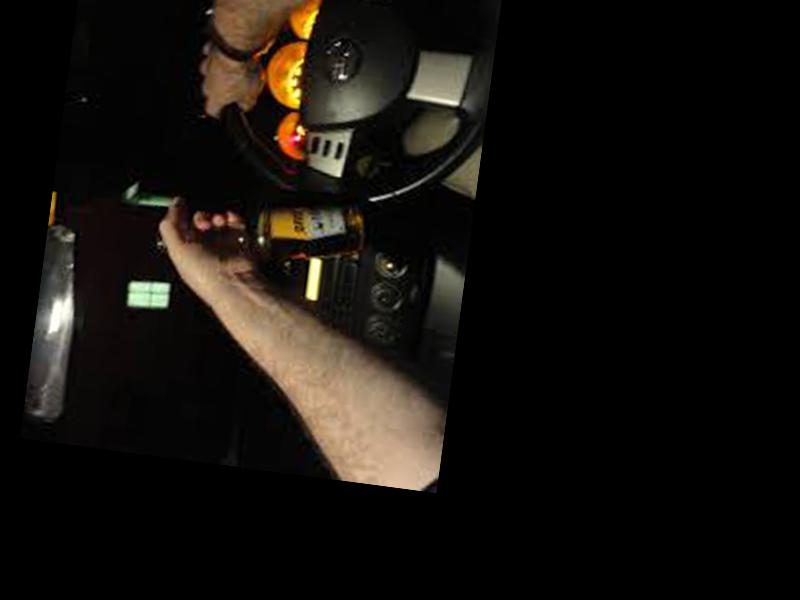Beer: (156, 174, 366, 279)
